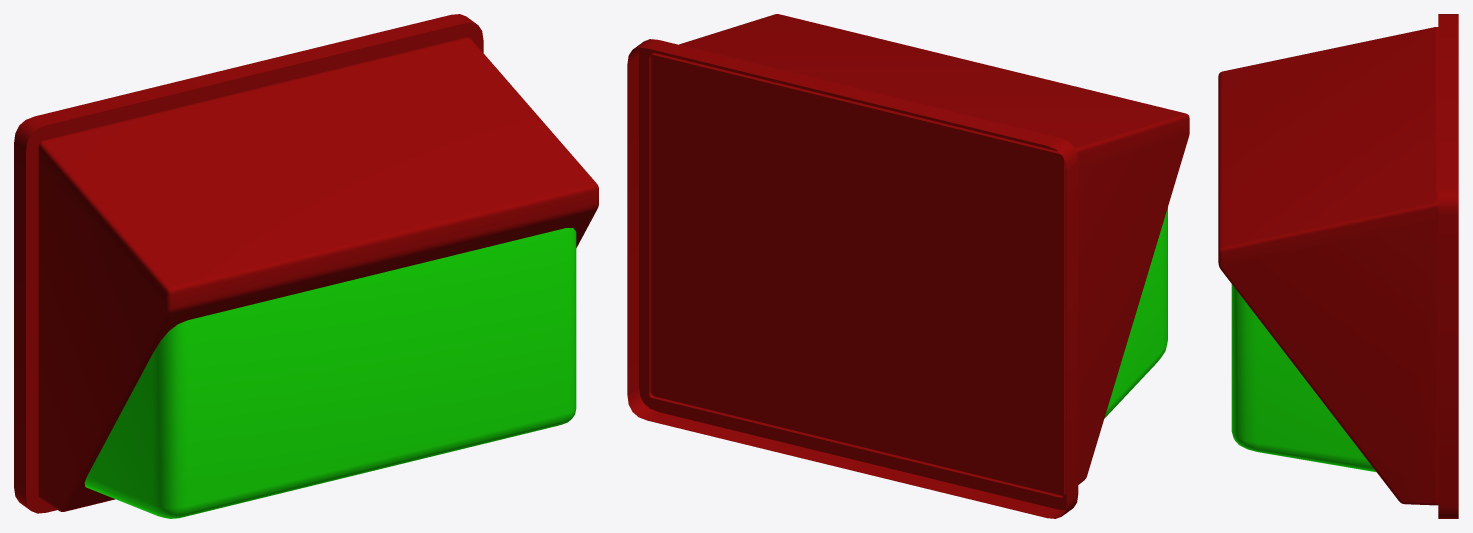
The model's file is SM_Flood Light.fbx.
3 views of the same model, side by side, from view 1: azimuth 30°, elevation 25°; view 2: azimuth 150°, elevation 25°; view 3: azimuth 270°, elevation 25° (orthographic). The views are drawn at different scales.
Parts seen in each view (by area): view 1: SM_Flood Light; view 2: SM_Flood Light; view 3: SM_Flood Light.
Part boxes in pixels (box(x1,y1,x2,y2)): SM_Flood Light: box(14, 14, 598, 518); SM_Flood Light: box(627, 14, 1189, 518); SM_Flood Light: box(1218, 14, 1458, 518).
Size of the model in its own units: 42.35 by 34.28 by 22.75.
